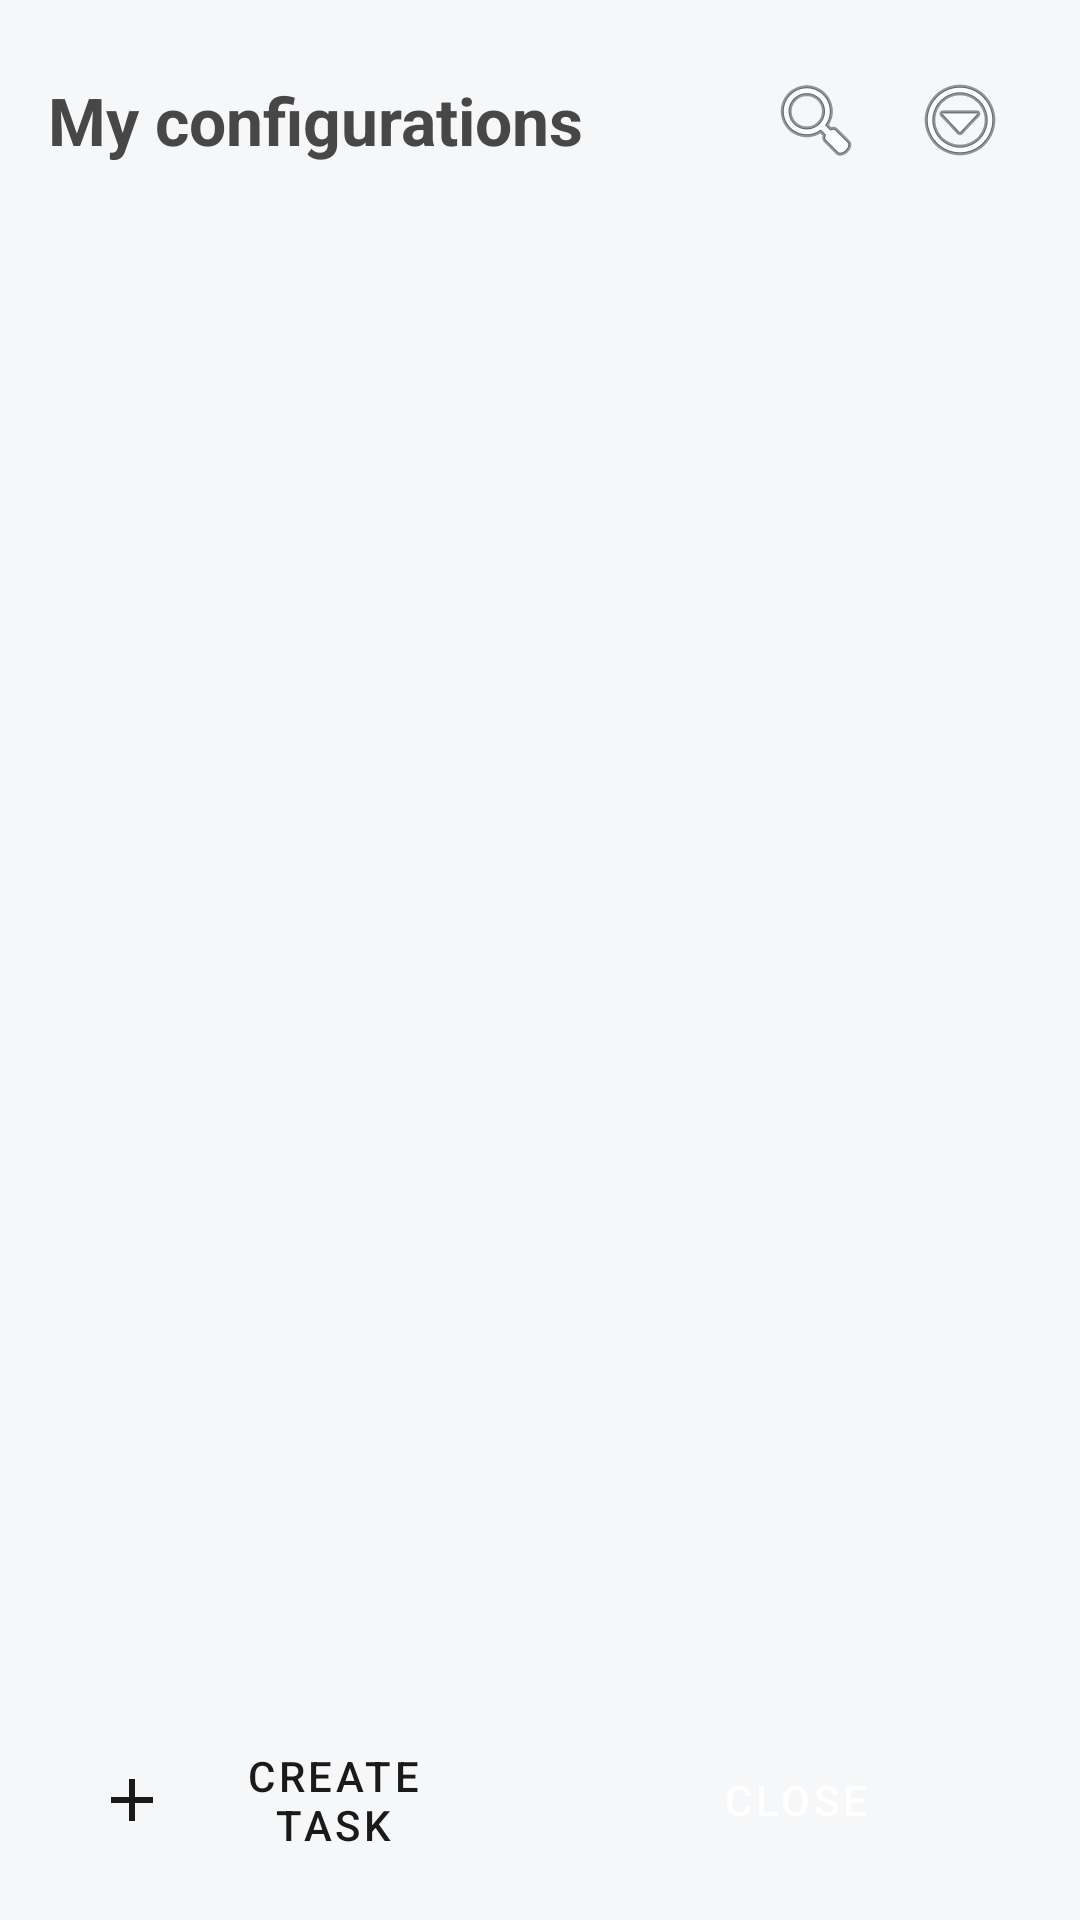

Named icons in this screenshot (1080px x 1920px) and their bounding boxes, (x1, y1, x2, y2):
More options: (924, 84, 996, 156)
Search: (780, 85, 852, 156)
